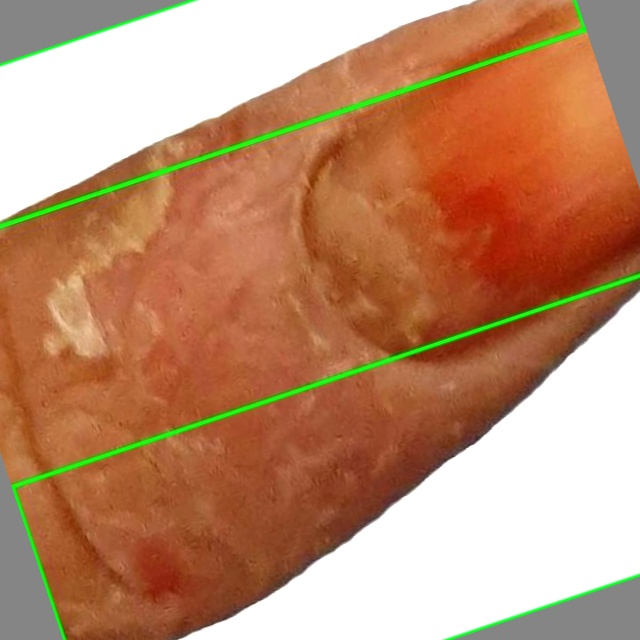Contact Dermatitis: (12, 275, 639, 639), (0, 0, 585, 226)
